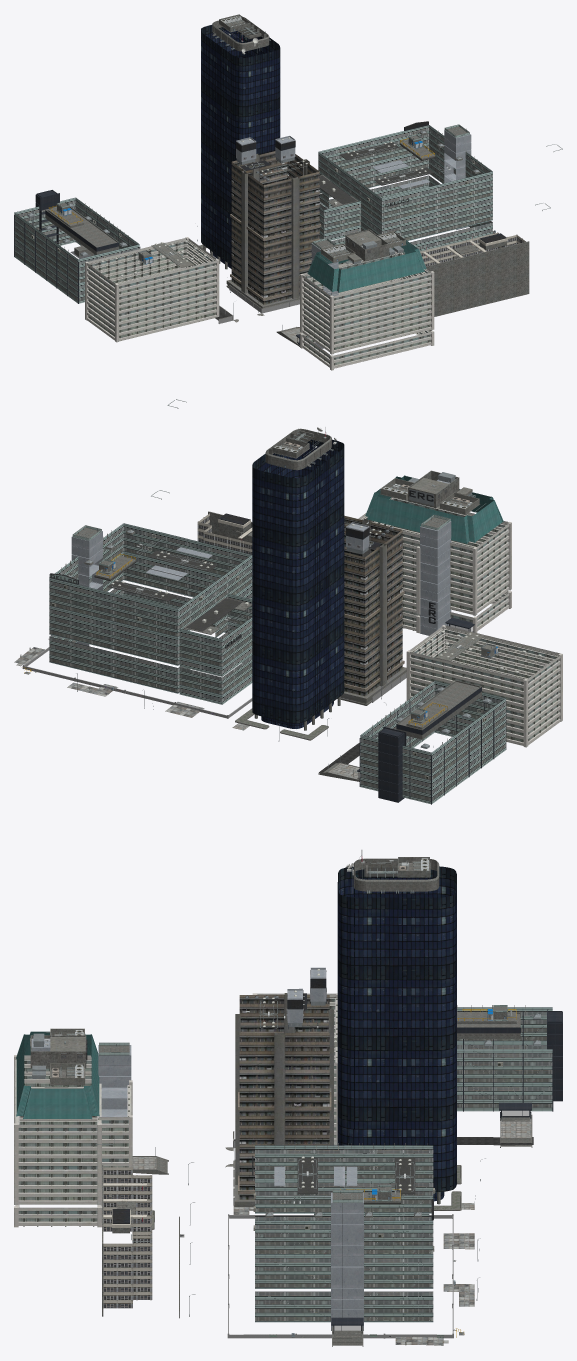
File: block-citya-1.glb
The picture shows the model from 3 angles, top to bottom: view 1: azimuth 30°, elevation 25°; view 2: azimuth 150°, elevation 25°; view 3: azimuth 270°, elevation 25°; orthographic projection. The views are drawn at different scales.
Visible parts, largest first — view 1: Object_143, Object_35, Object_18, Object_68, Object_100, Object_66, Object_145, Object_185, Object_79, Object_38, Object_204, Object_168 (+3 smaller); view 2: Object_35, Object_18, Object_143, Object_68, Object_100, Object_145, Object_66, Object_79, Object_204, Object_38, Object_185, Object_176 (+4 smaller); view 3: Object_18, Object_35, Object_68, Object_143, Object_100, Object_145, Object_168, Object_66, Object_79, Object_185, Object_38, Object_56 (+5 smaller).
Part boxes in pixels (x1=…): Object_143: x1=85, y1=237, x2=434, y2=370; Object_35: x1=14, y1=124, x2=492, y2=303; Object_18: x1=201, y1=25, x2=280, y2=268; Object_68: x1=226, y1=151, x2=321, y2=308; Object_100: x1=24, y1=14, x2=529, y2=346; Object_66: x1=307, y1=235, x2=426, y2=292; Object_145: x1=236, y1=130, x2=471, y2=295; Object_185: x1=60, y1=15, x2=562, y2=276; Object_79: x1=14, y1=156, x2=308, y2=344; Object_38: x1=237, y1=27, x2=435, y2=204; Object_204: x1=138, y1=231, x2=405, y2=319; Object_168: x1=420, y1=232, x2=525, y2=266; Object_35: x1=49, y1=515, x2=505, y2=803; Object_18: x1=252, y1=439, x2=344, y2=728; Object_143: x1=358, y1=497, x2=562, y2=747; Object_68: x1=337, y1=515, x2=406, y2=705; Object_100: x1=48, y1=428, x2=493, y2=781; Object_145: x1=63, y1=479, x2=463, y2=747; Object_66: x1=365, y1=475, x2=503, y2=543; Object_79: x1=357, y1=617, x2=506, y2=804; Object_204: x1=20, y1=478, x2=498, y2=696; Object_38: x1=94, y1=434, x2=315, y2=631; Object_185: x1=78, y1=399, x2=541, y2=712; Object_176: x1=22, y1=591, x2=406, y2=718; Object_18: x1=337, y1=866, x2=456, y2=1201; Object_35: x1=99, y1=1005, x2=552, y2=1322; Object_68: x1=234, y1=993, x2=333, y2=1210; Object_143: x1=14, y1=993, x2=337, y2=1227; Object_100: x1=30, y1=857, x2=532, y2=1346; Object_145: x1=31, y1=967, x2=429, y2=1330; Object_168: x1=103, y1=1166, x2=152, y2=1308; Object_66: x1=16, y1=1031, x2=99, y2=1119; Object_79: x1=288, y1=1009, x2=562, y2=1330; Object_185: x1=26, y1=856, x2=505, y2=1241; Object_38: x1=297, y1=867, x2=415, y2=1204; Object_56: x1=180, y1=1203, x2=474, y2=1345.
Bounding box in the file's own units: 69.87 × 41.83 × 59.
34 materials, 33 textured.
